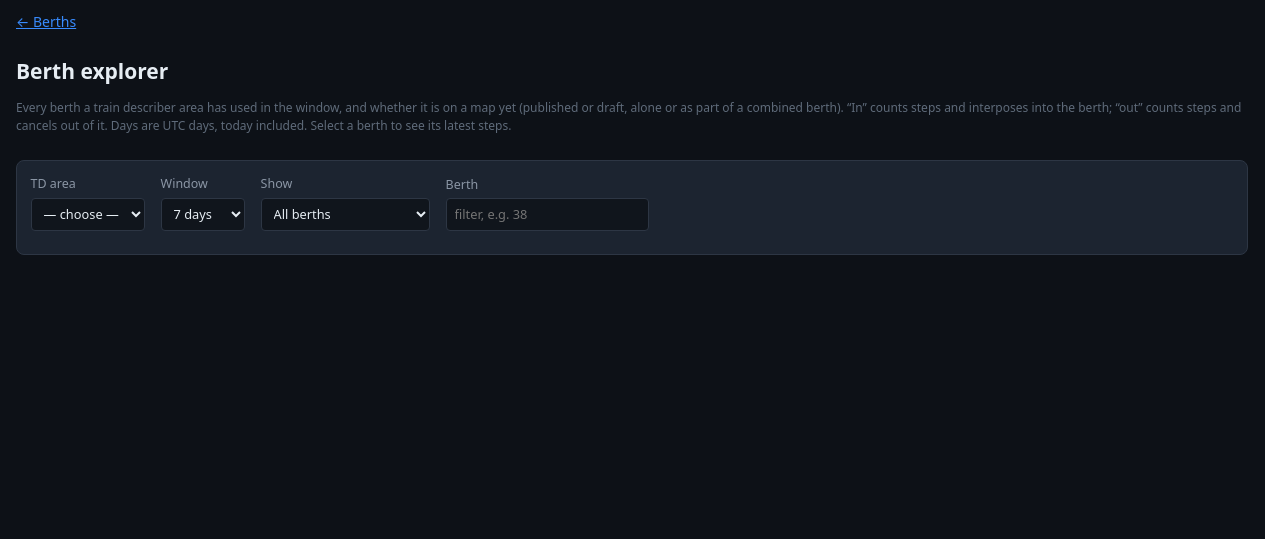
Test: BerthExplorerPage (Milestone 72) › shows a berth's latest steps in UK time when clicked, and loads more
The image size is (1265, 539).
Select "M9" in the dropdown labelled "TD area" at (88, 214), box [31,198,145,231]
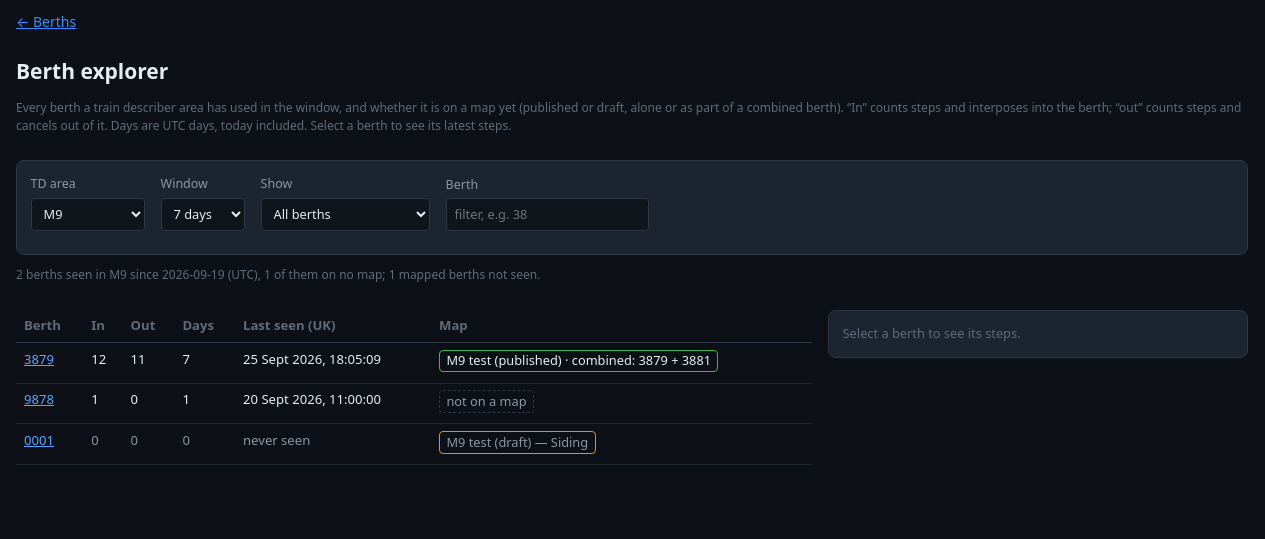
expect the table named "M9 berths" is shown: met, box [16,310,812,465]
Click the button "3879".
click(39, 359)  # box [24,350,54,369]
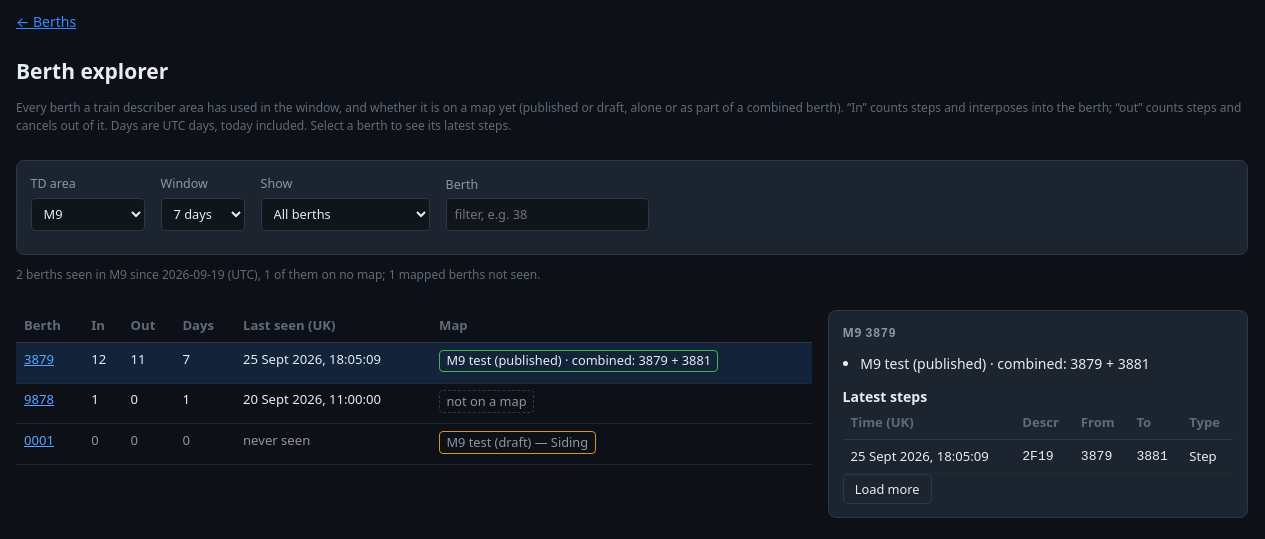
expect the table named "Steps at 3879" shows "18:05:09": met, box [851,447,989,465]
expect the table named "Steps at 3879" shows "Step": met, box [1189,447,1217,465]
Click the button "Load more".
click(887, 489)  # box [843,474,932,504]
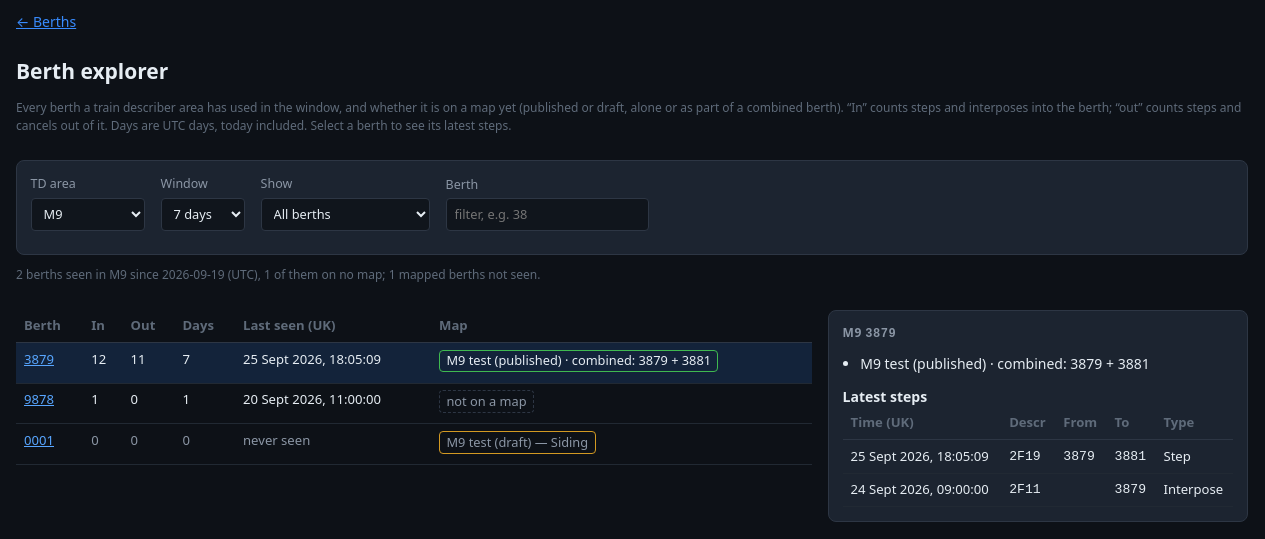
expect the table named "Steps at 3879" shows "2F11": met, box [1009,482,1041,497]
expect the table named "Steps at 3879" shows "Interpose": met, box [1163,480,1223,498]
expect the button "Load more" is gone: met
